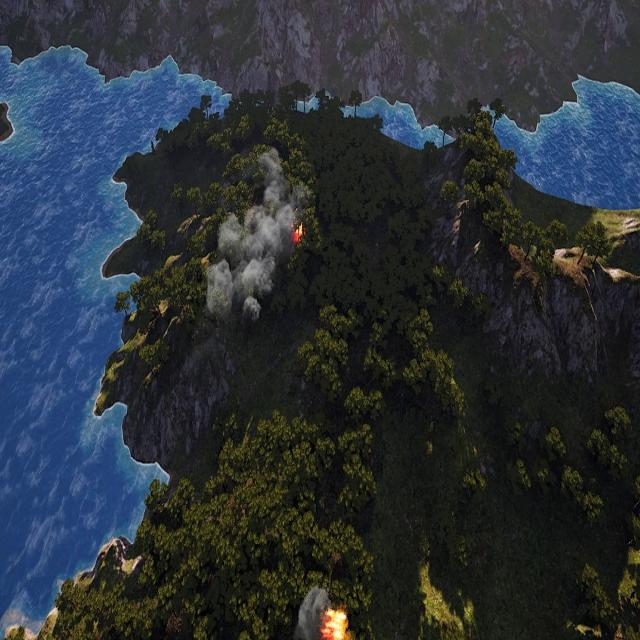fire: (320, 607, 347, 640), (291, 222, 303, 245)
smoke: (206, 153, 304, 323), (295, 585, 332, 640)
